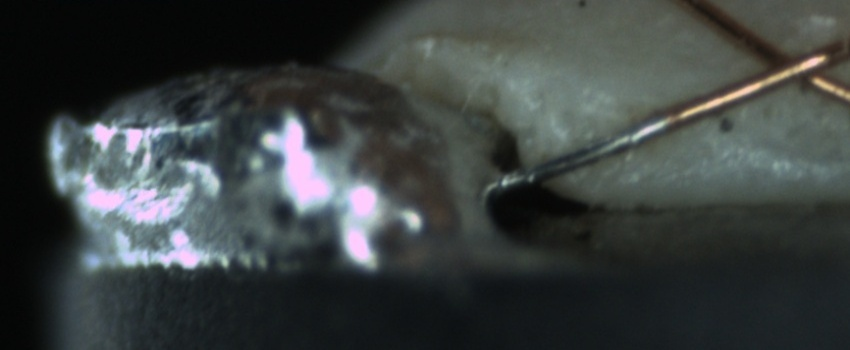CL: (737, 27, 844, 99)
TS: (497, 114, 672, 189)
